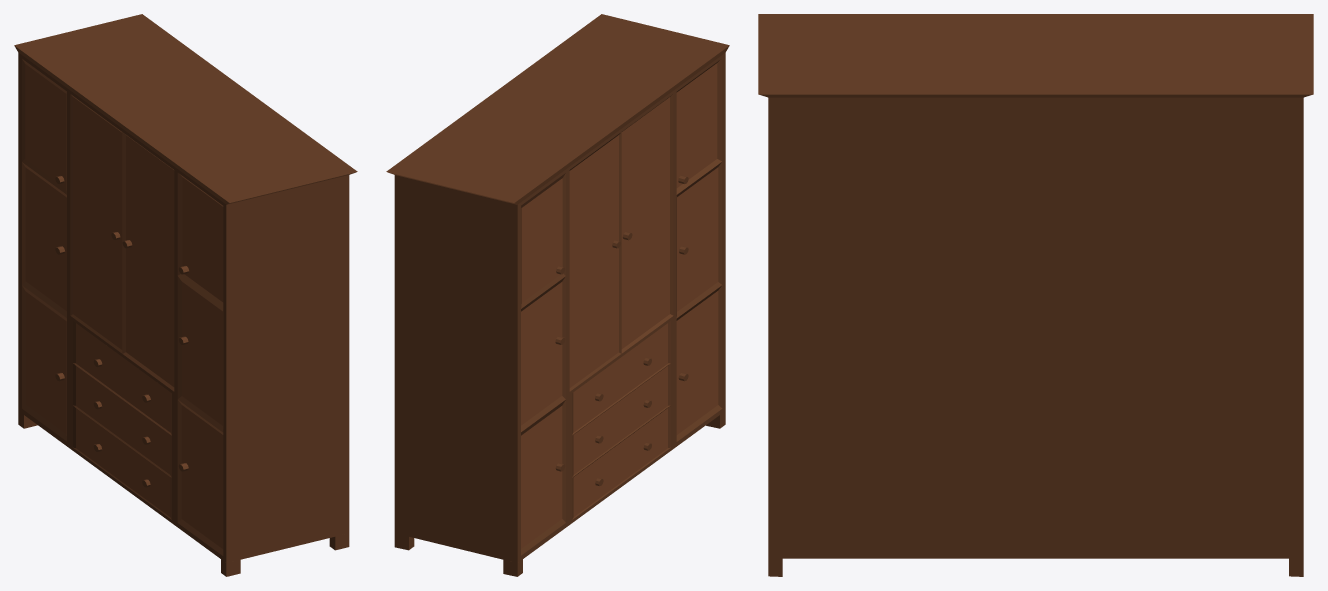
The model's file is closetwood01.obj.
3 views of the same model, side by side, from view 1: azimuth 30°, elevation 25°; view 2: azimuth 150°, elevation 25°; view 3: azimuth 270°, elevation 25° (orthographic). The views are drawn at different scales.
Visible parts, largest first — view 1: Cube; view 2: Cube; view 3: Cube.
Boxes of the visible parts, box(x1,y1,x2,y2) form: Cube: box(14, 14, 357, 576); Cube: box(386, 14, 729, 576); Cube: box(758, 14, 1313, 576).
Bounding box in the file's own units: 0.7256 × 2 × 2.07.
